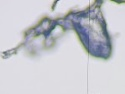microplastic: (1, 1, 112, 59), (51, 1, 60, 11), (112, 1, 125, 4)
